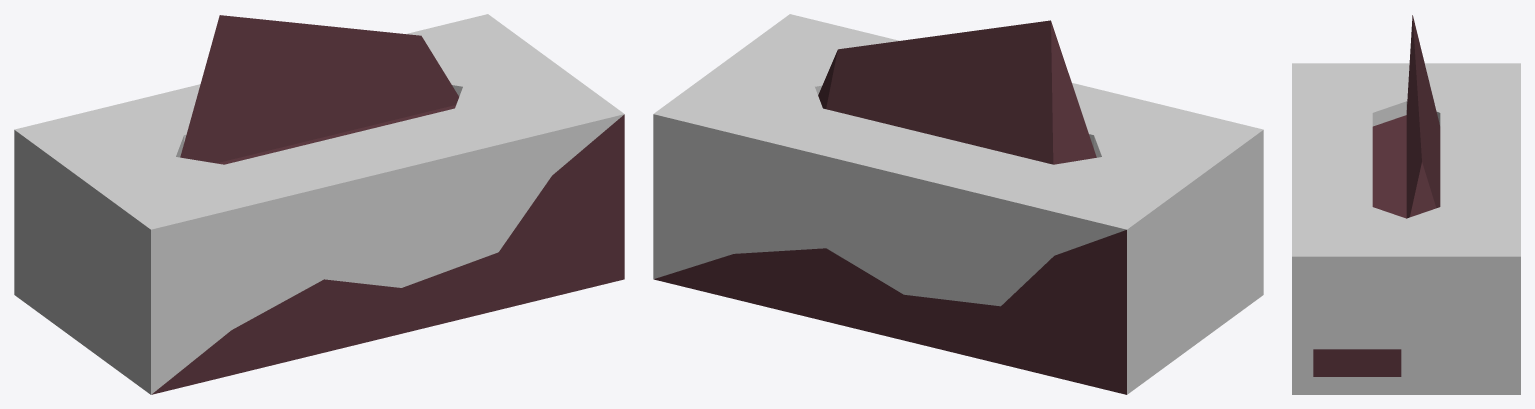
The model's file is furniture-napkin-box.glb.
The picture shows the model from 3 angles, left to right: view 1: azimuth 30°, elevation 25°; view 2: azimuth 150°, elevation 25°; view 3: azimuth 270°, elevation 25°; orthographic projection. The views are drawn at different scales.
Parts seen in each view (by area): view 1: napkin-box; view 2: napkin-box; view 3: napkin-box.
Boxes of the visible parts, box(x1,y1,x2,y2) form: napkin-box: box(14, 14, 624, 394); napkin-box: box(653, 14, 1263, 394); napkin-box: box(1292, 15, 1520, 394).
Bounding box in the file's own units: 0.288 × 0.1701 × 0.144.
